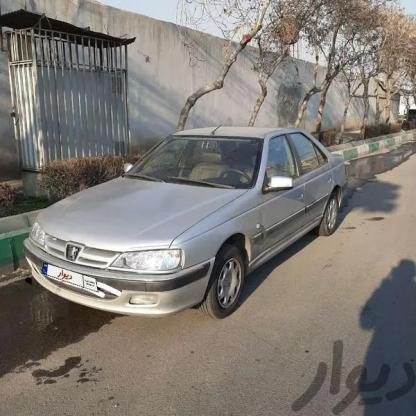Car: (12, 121, 349, 312)
